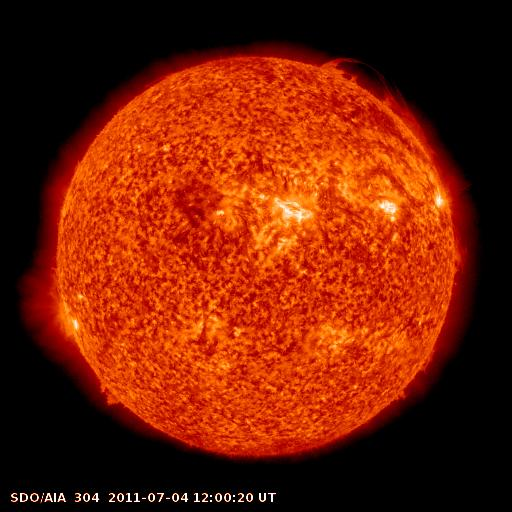prominence: (317, 48, 436, 156), (93, 370, 127, 415)
